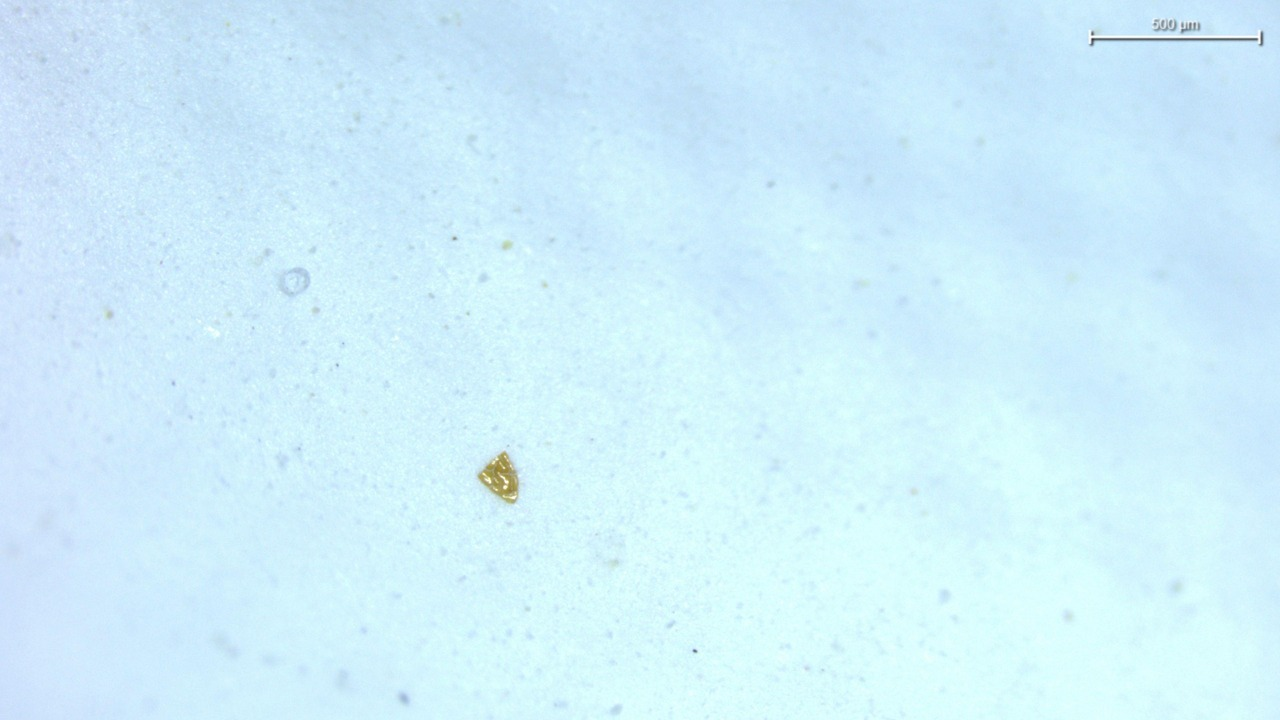microplastic_fragment: (478, 452, 518, 503)
